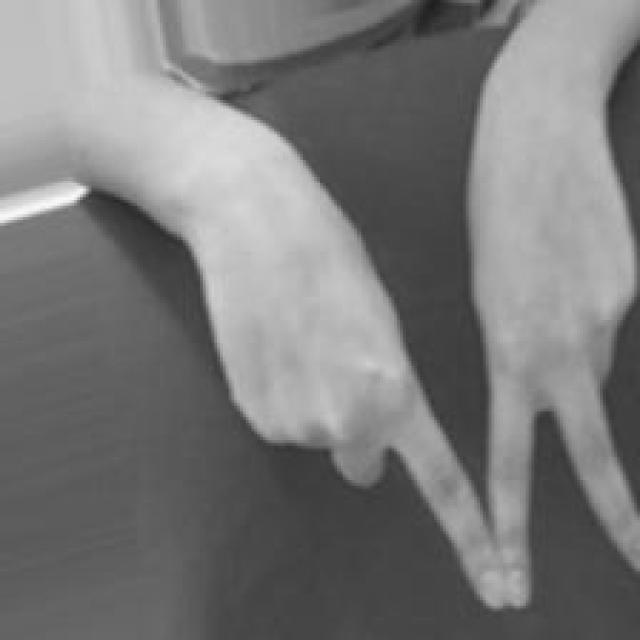N: (166, 135, 640, 616)
